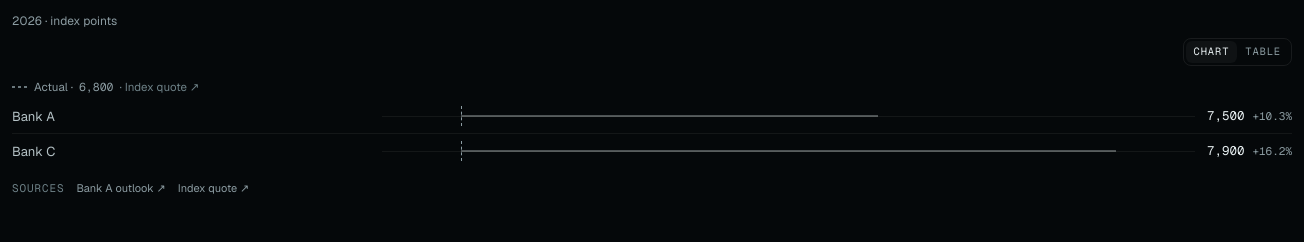
Test: comparison charts › every comparison has a table view with each value's source
Click the button "Table" at (1263, 52), box [1237,41,1289,63]
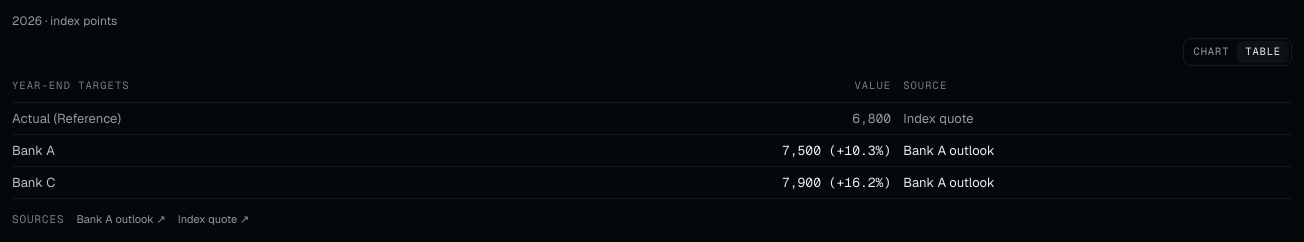
Check: the table shows "Actual (Reference)", box [12,78,1292,199]
Check: the table shows "7,900 (+16.2%)", box [12,78,1292,199]
Check: the table shows "Bank A outlook", box [903,142,995,158]
